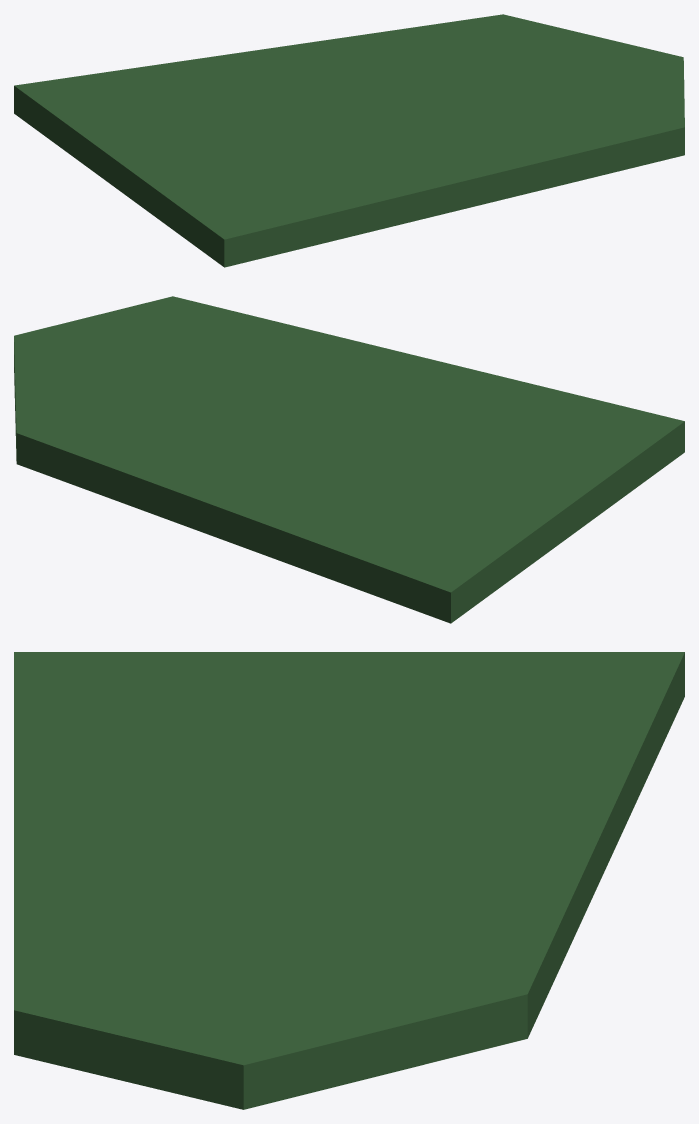
File: x_proval_00_27_1_rmstrd.fbx
3 views of the same model, one above another, from view 1: azimuth 30°, elevation 25°; view 2: azimuth 150°, elevation 25°; view 3: azimuth 270°, elevation 25° (orthographic). The views are drawn at different scales.
Parts seen in each view (by area): view 1: x_proval_00_27_1_rmstrd1; view 2: x_proval_00_27_1_rmstrd1; view 3: x_proval_00_27_1_rmstrd1.
Part boxes in pixels (<box>): x_proval_00_27_1_rmstrd1: <box>14,14,684,267</box>; x_proval_00_27_1_rmstrd1: <box>14,296,684,623</box>; x_proval_00_27_1_rmstrd1: <box>14,652,684,1109</box>.
Size of the model in its own units: 3.97 by 0.2 by 2.73.
